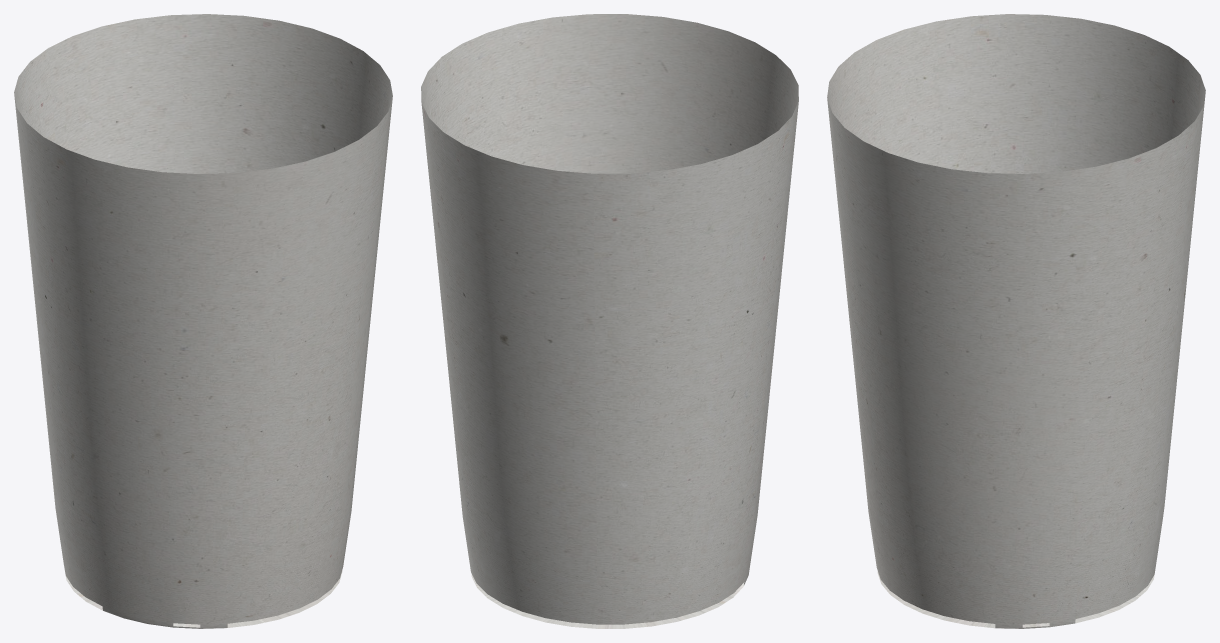
Rendered from cup2_inside.gltf.
3 renders of one model, left to right at view 1: azimuth 30°, elevation 25°; view 2: azimuth 150°, elevation 25°; view 3: azimuth 270°, elevation 25°, orthographic.
Parts seen in each view (by area): view 1: cup2_inside; view 2: cup2_inside; view 3: cup2_inside.
Part boxes in pixels (bbox=[...]): cup2_inside: bbox=[14, 14, 392, 628]; cup2_inside: bbox=[421, 14, 798, 628]; cup2_inside: bbox=[827, 14, 1205, 628].
Size of the model in its own units: 8.89 by 12.34 by 8.89.
Materials: 1 (1 with a texture image).
